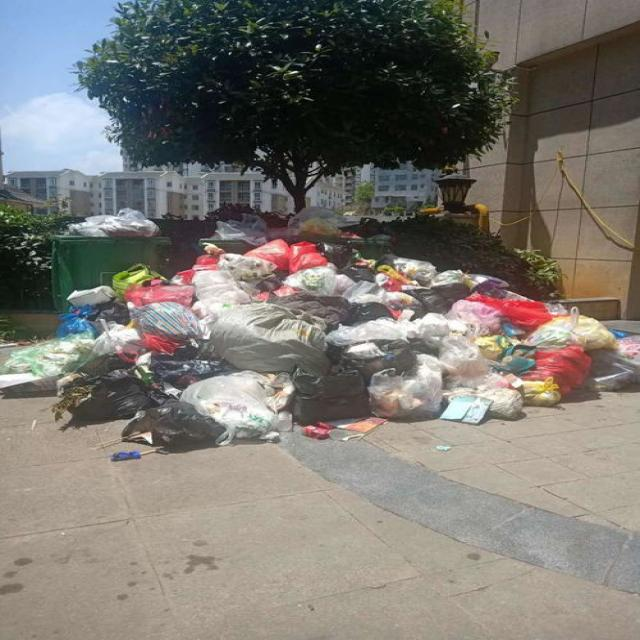garbage: (0, 208, 639, 460)
overflow: (52, 205, 169, 306)
